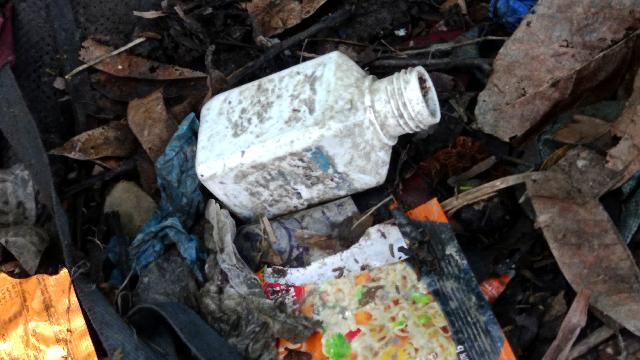bottle: (186, 27, 457, 262)
